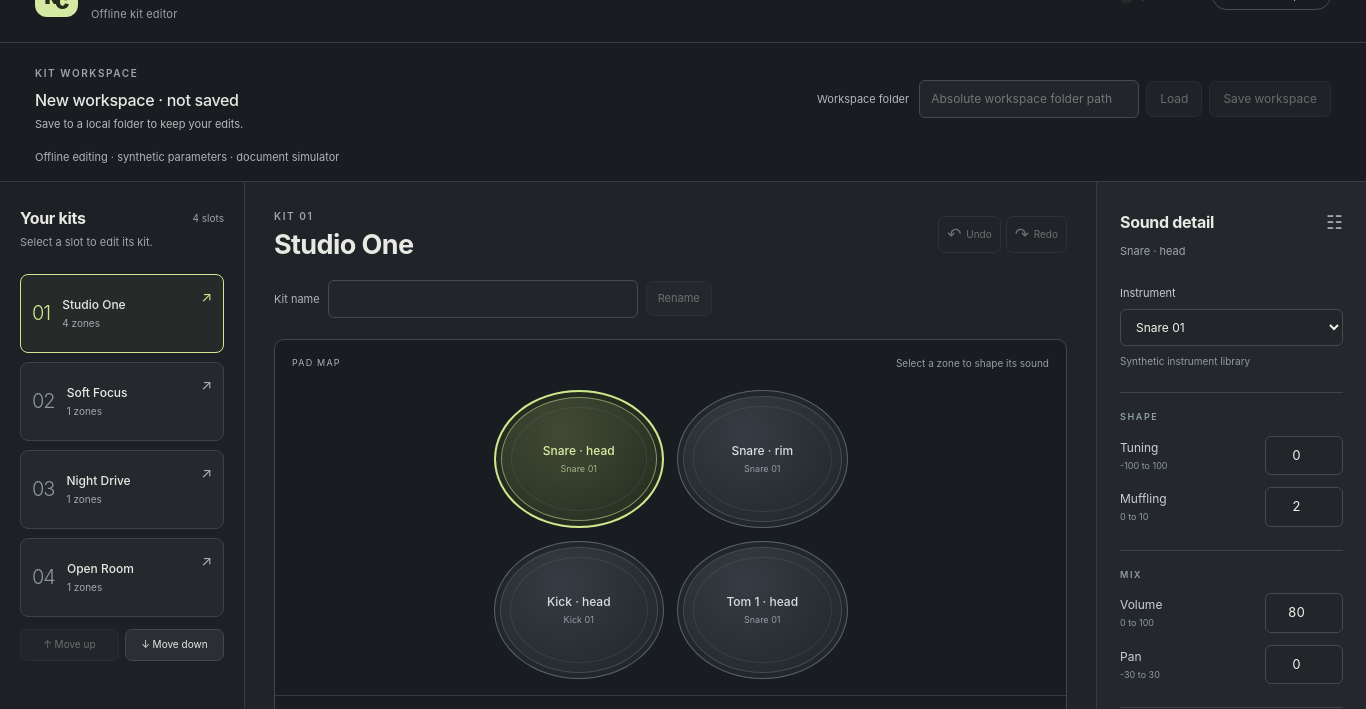
Test case: kit editing through the Rust dispatcher › invalidates the plan after undo so an old desired state cannot be applied
Expected: the heading "Studio One" is shown, [274, 228, 413, 261]
Replace the text in the number field labelled "Tuning" with "12". click: (1304, 455)
box: [1265, 436, 1343, 475]
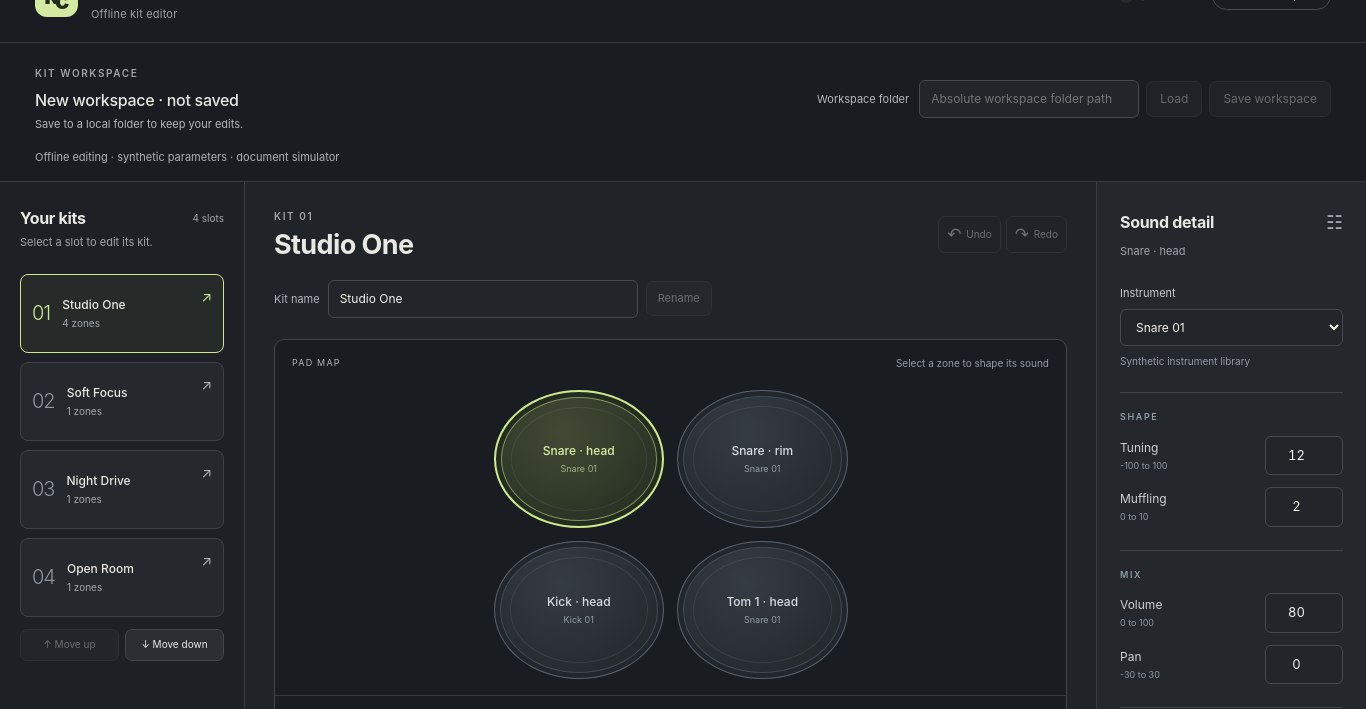
Leave the number field labelled "Tuning", box [1265, 436, 1343, 475]
(page scrolled)
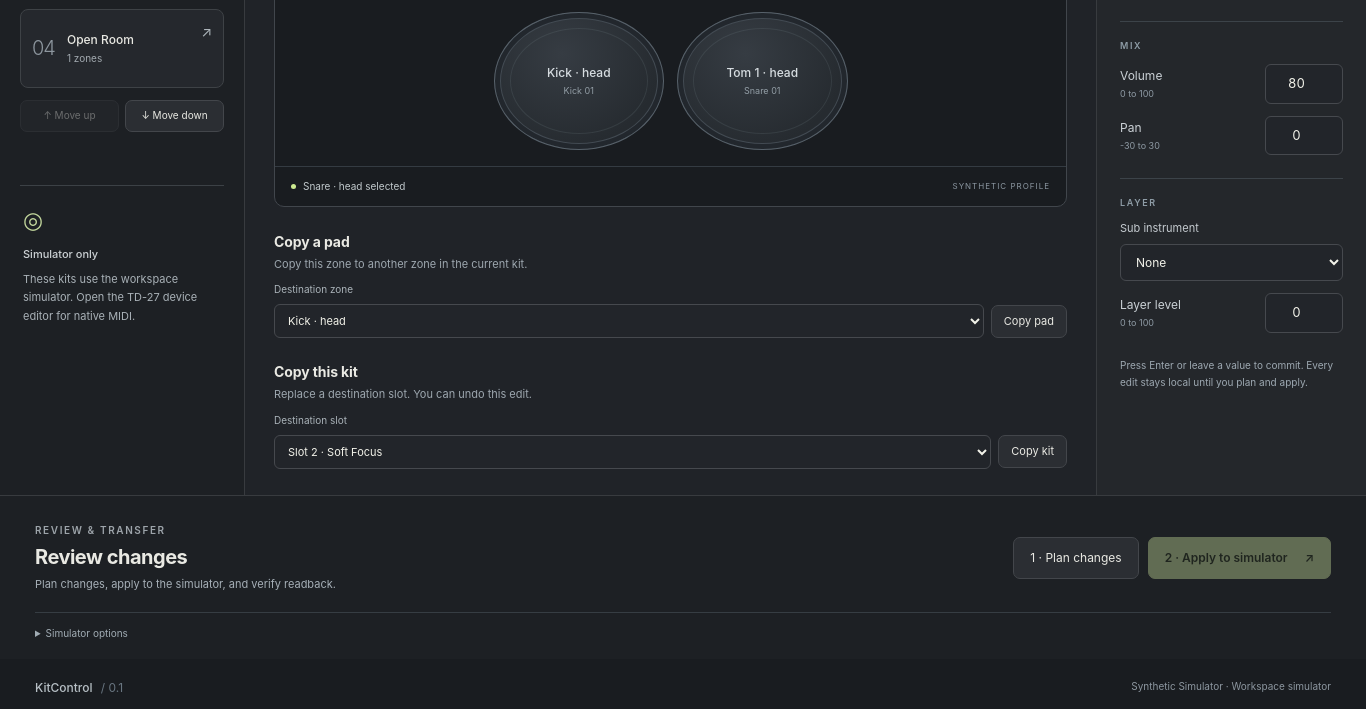
Click the button "1 · Plan changes". click: click(1076, 558)
box: [1013, 536, 1139, 579]
(page scrolled)
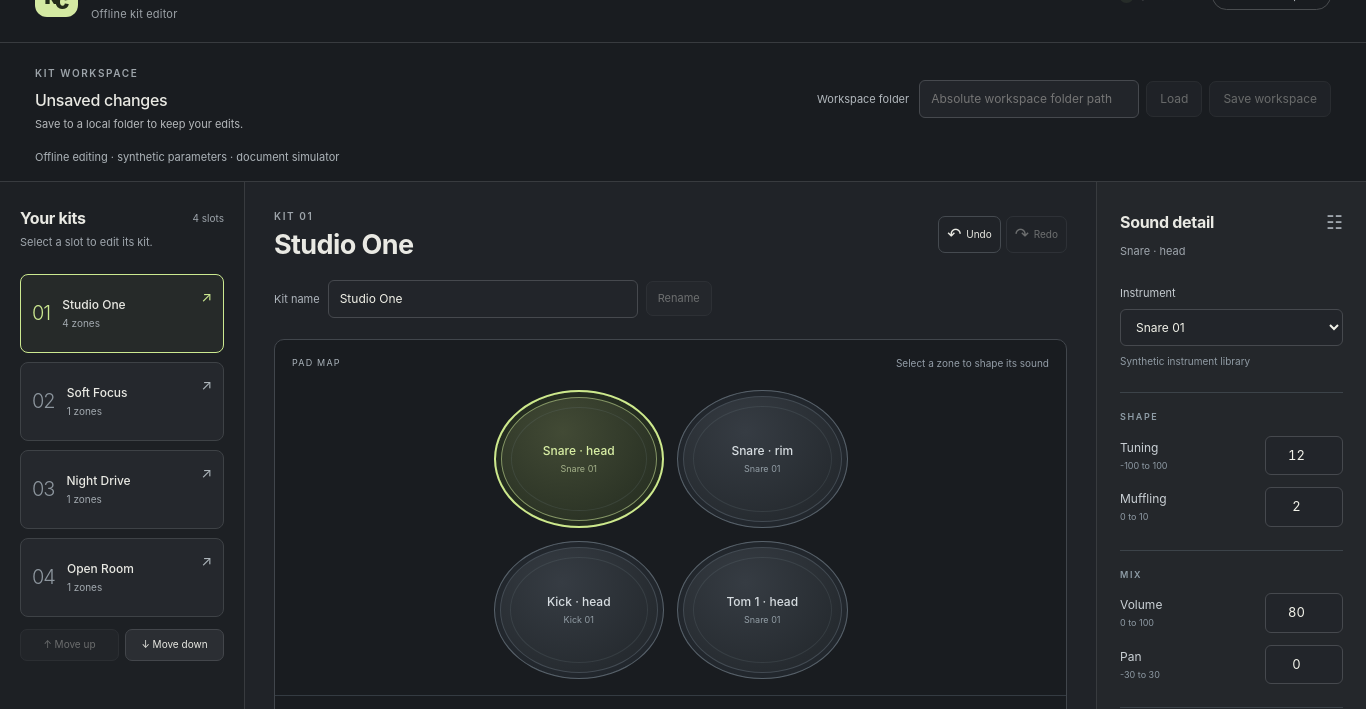
Click the button "↶ Undo". click: click(969, 235)
box: [938, 216, 1001, 253]
(page scrolled)
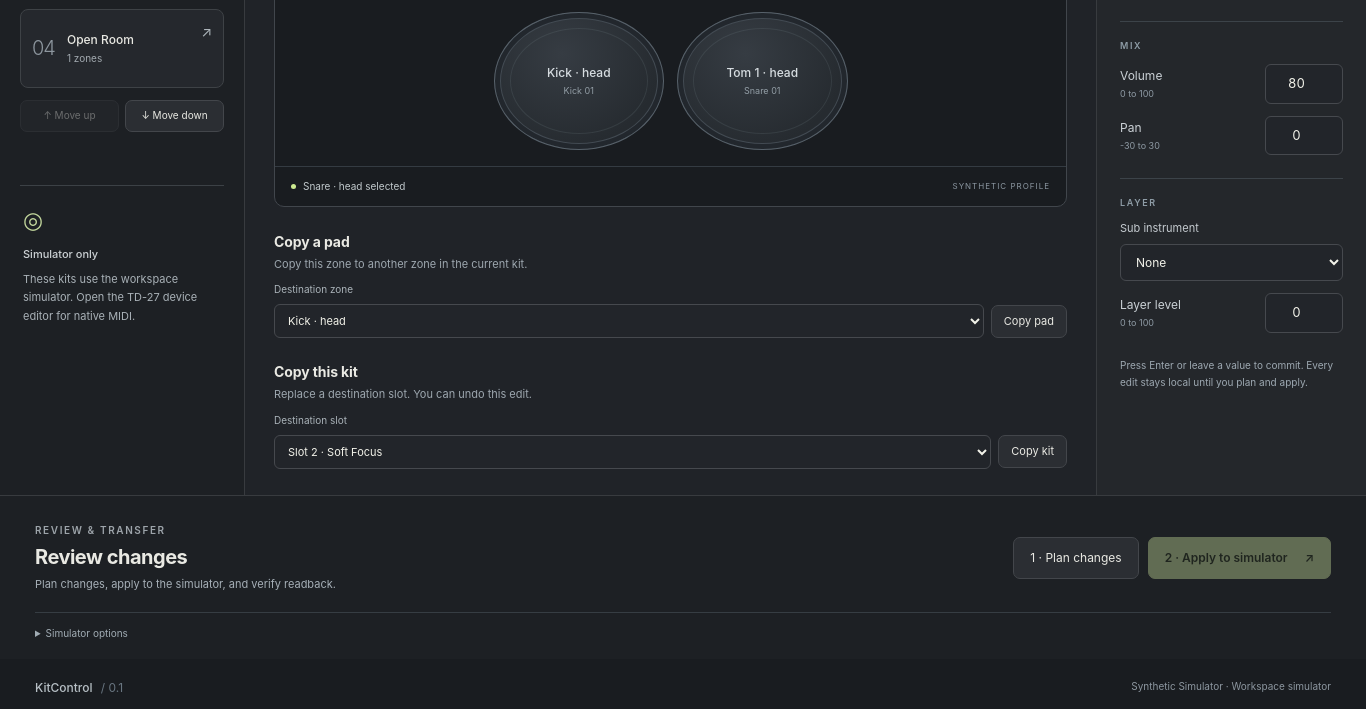
Expected: the button "2 · Apply to simulator ↗" is disabled, [1148, 536, 1331, 579]
